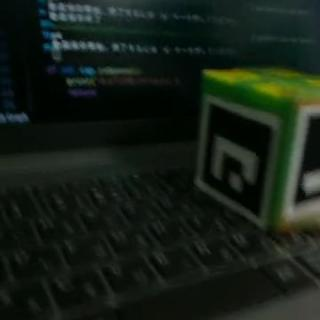armor: (198, 95, 281, 221)
robot: (197, 64, 320, 234)
